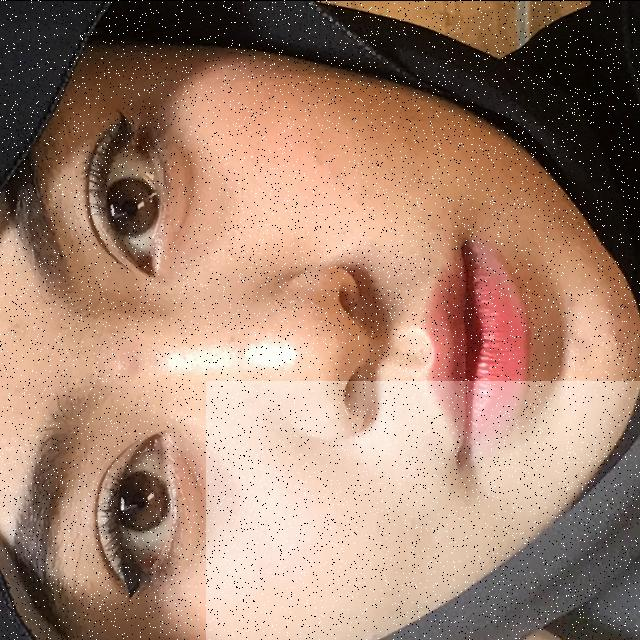ibu: (206, 380, 640, 640)
